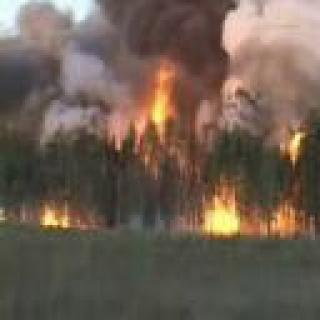fire: (257, 122, 311, 232), (147, 57, 178, 137), (206, 172, 240, 237), (39, 199, 72, 228)
